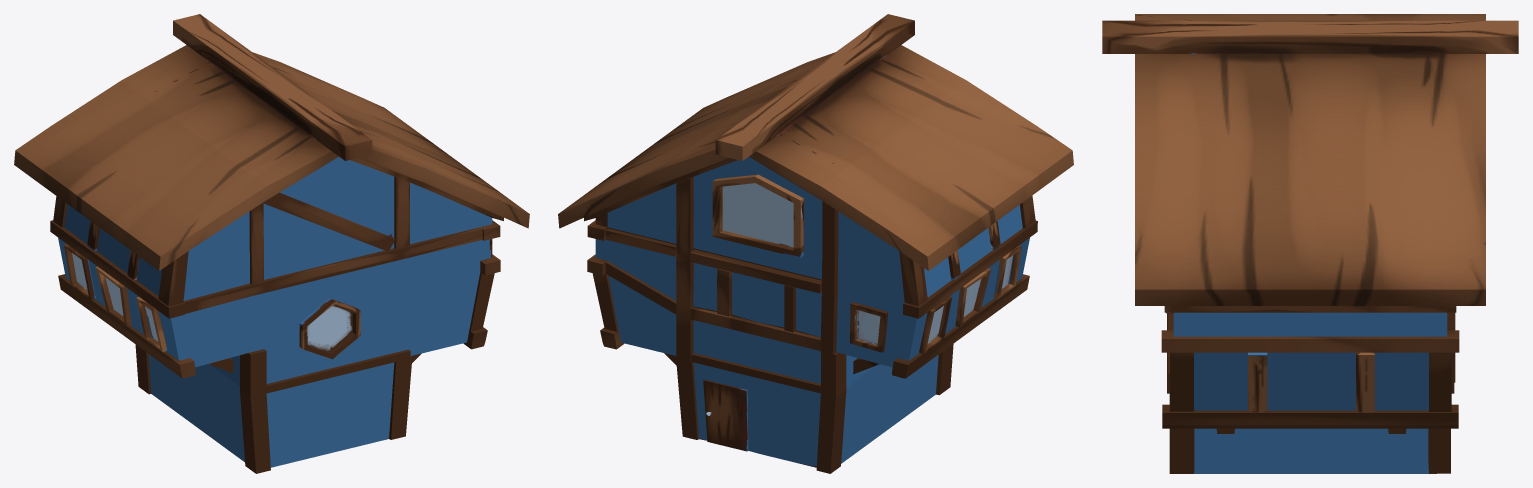
Rendered from batiment1_bleu.fbx.
The picture shows the model from 3 angles, left to right: view 1: azimuth 30°, elevation 25°; view 2: azimuth 150°, elevation 25°; view 3: azimuth 270°, elevation 25°; orthographic projection. The views are drawn at different scales.
Visible parts, largest first — view 1: Batiment5; view 2: Batiment5; view 3: Batiment5.
Part boxes in pixels (bbox=[...]): Batiment5: bbox=[14, 14, 529, 473]; Batiment5: bbox=[558, 14, 1073, 473]; Batiment5: bbox=[1102, 14, 1518, 473].
Size of the model in its own units: 6430 by 5499 by 5172.
Materials: 1 (1 with a texture image).
